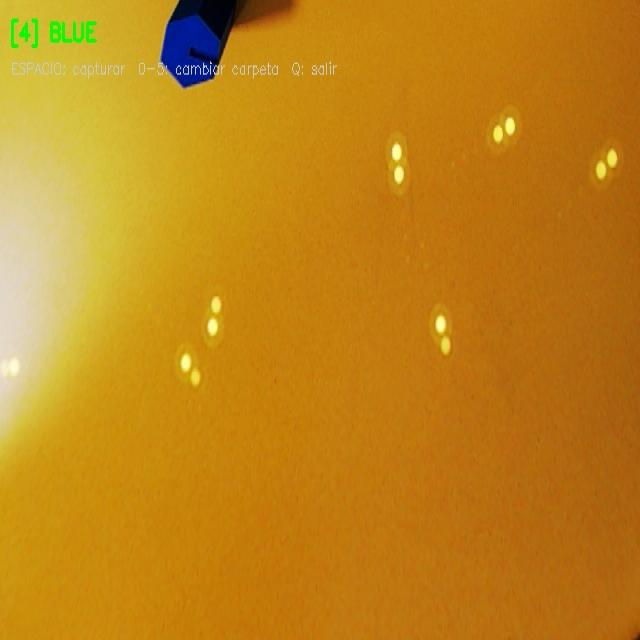blue: (160, 0, 236, 85)
